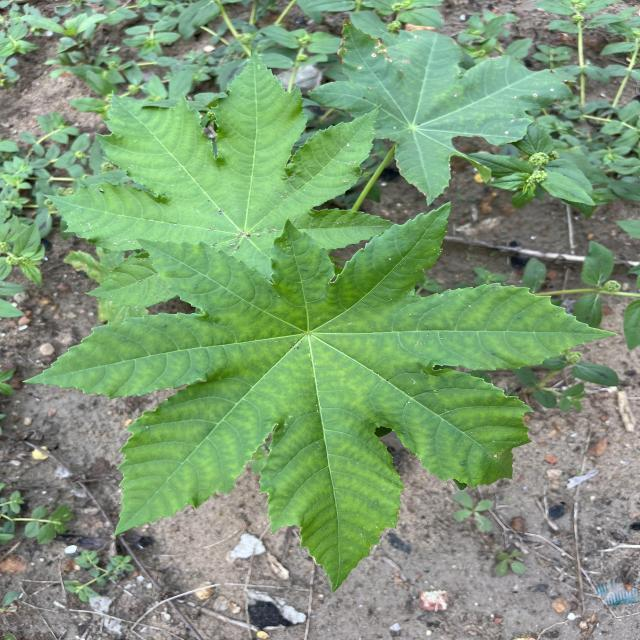Ricinus communis linn: (19, 197, 622, 596), (39, 44, 407, 314)
